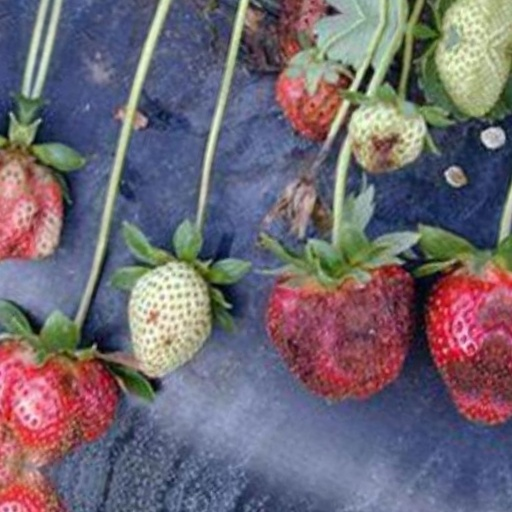Anthracnose Fruit Rot: (86, 234, 234, 381), (0, 231, 57, 356), (200, 58, 278, 129), (129, 102, 190, 150), (330, 320, 359, 353)
